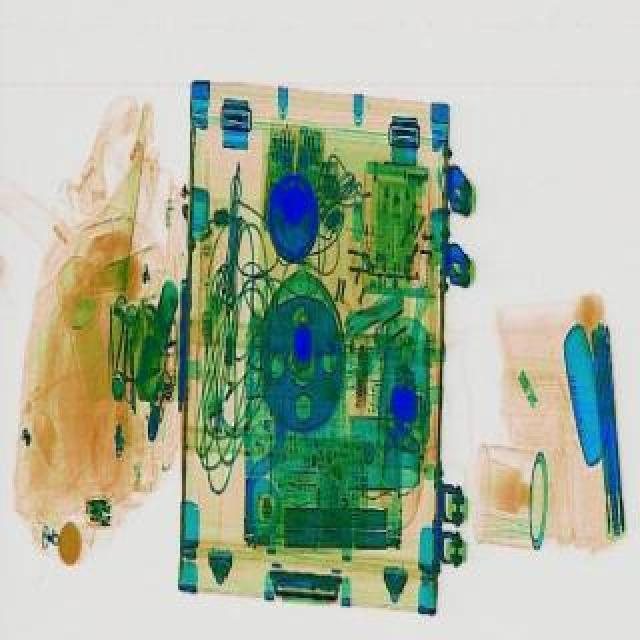pliers: (104, 292, 140, 370), (110, 312, 136, 400)
